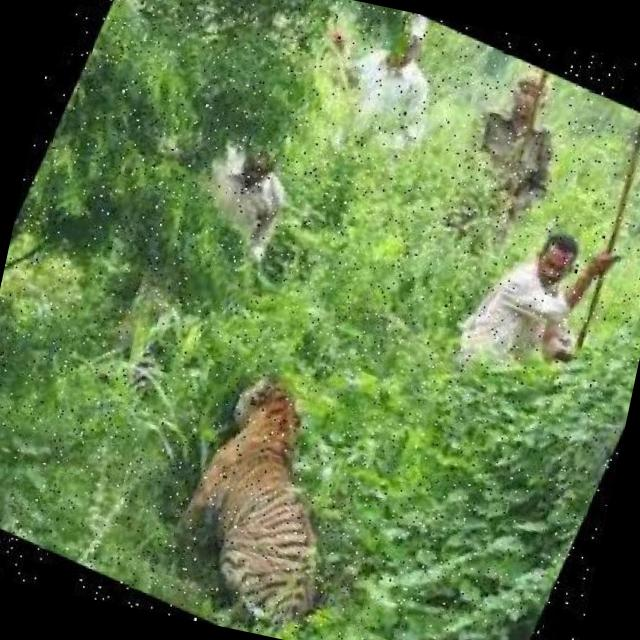poacher: (446, 215, 610, 415), (313, 0, 475, 181), (164, 106, 328, 270), (467, 65, 618, 211)
tiger: (121, 339, 405, 596)
weapon: (557, 118, 640, 372)
